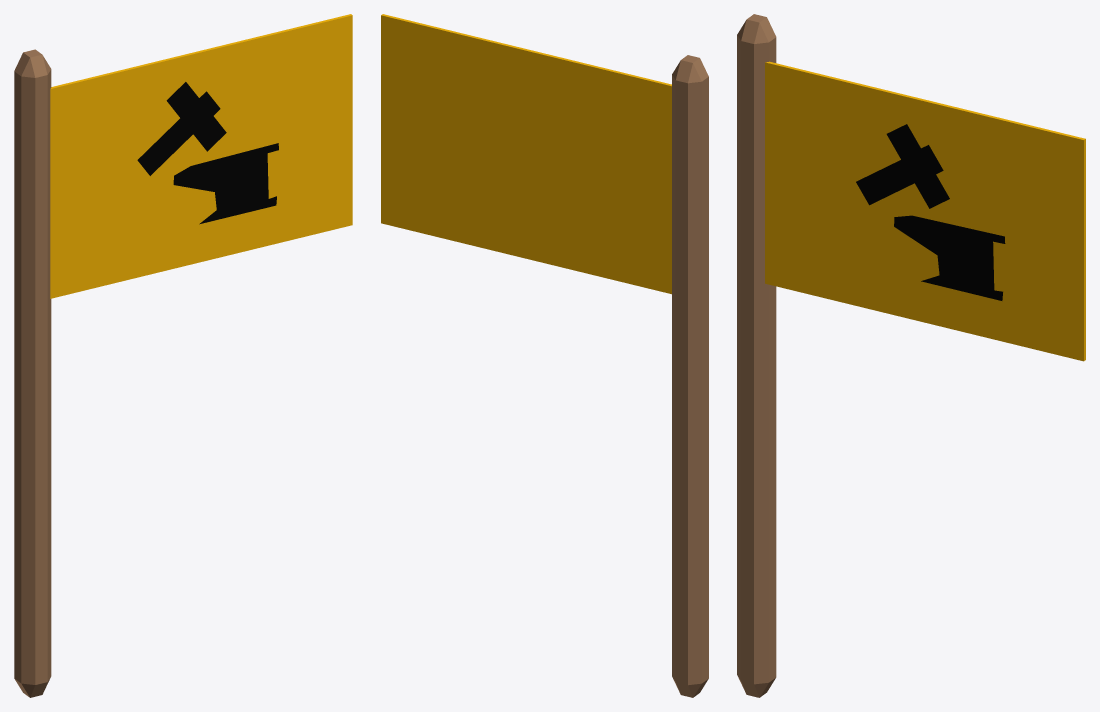
File: village-sign.fbx
3 renders of one model, left to right at view 1: azimuth 30°, elevation 25°; view 2: azimuth 150°, elevation 25°; view 3: azimuth 330°, elevation 25°, orthographic. The views are drawn at different scales.
Visible parts, largest first — view 1: Cube.017; view 2: Cube.017; view 3: Cube.017.
Part boxes in pixels (x1,y1,x2,y2): Cube.017: (14, 14, 352, 697); Cube.017: (381, 14, 708, 697); Cube.017: (737, 14, 1085, 697).
Size of the model in its own units: 181 by 335 by 16.53.
